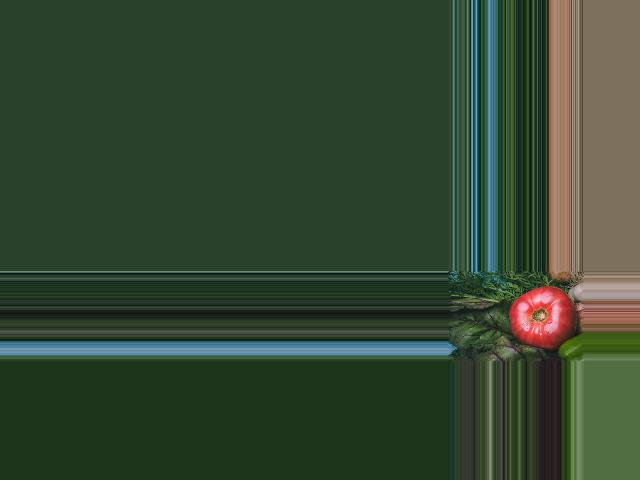tomato: (509, 286, 578, 351)
